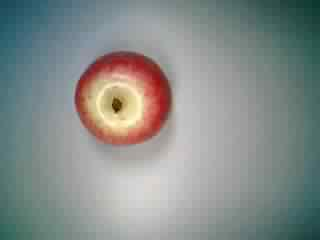apple: (71, 44, 175, 148)
